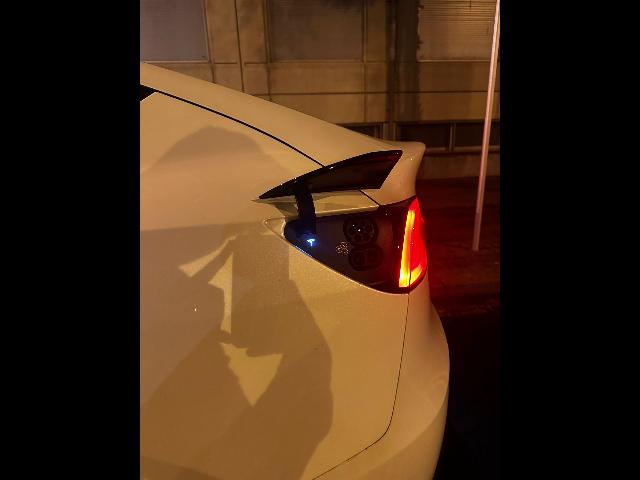inlet: (347, 219, 374, 244)
inlet-above-left: (352, 221, 358, 227)
inlet-above-right: (360, 220, 366, 226)
inlet-below-left: (354, 234, 362, 242)
inlet-below-right: (363, 233, 370, 241)
inlet-circle: (356, 225, 364, 234)
inlet-circle-left: (348, 227, 356, 235)
inlet-circle-right: (365, 225, 373, 233)
inlet-minus: (367, 250, 379, 263)
inlet-plus: (353, 252, 365, 266)
